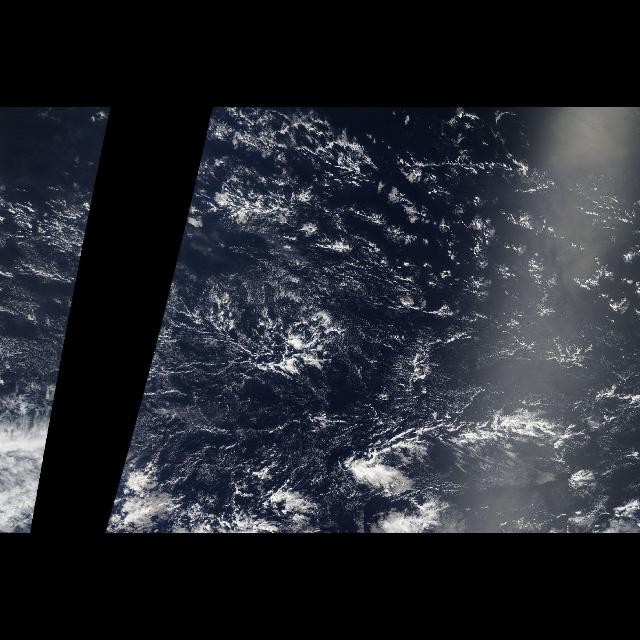Fish: (177, 303, 638, 507)
Flower: (182, 115, 638, 292)
Sugar: (126, 190, 532, 454), (14, 190, 94, 454)
